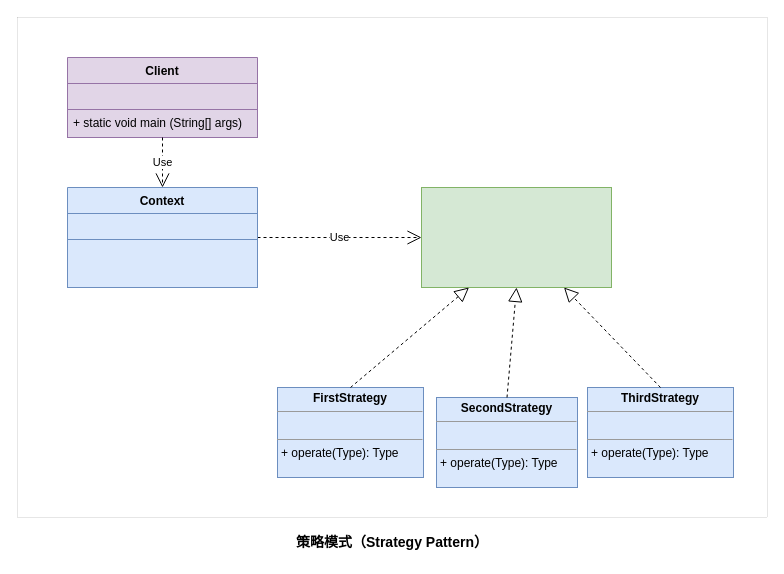
This 784x574 diagram has some shape labels left out. Each missing label, with the centre of its shape:
+ Context(Strategy strategy) + operate(Type): Type: (162,263)
- Strategy strategy: (162,226)
<<Interface>> Strategy + operate(Type): Type: (516,237)
